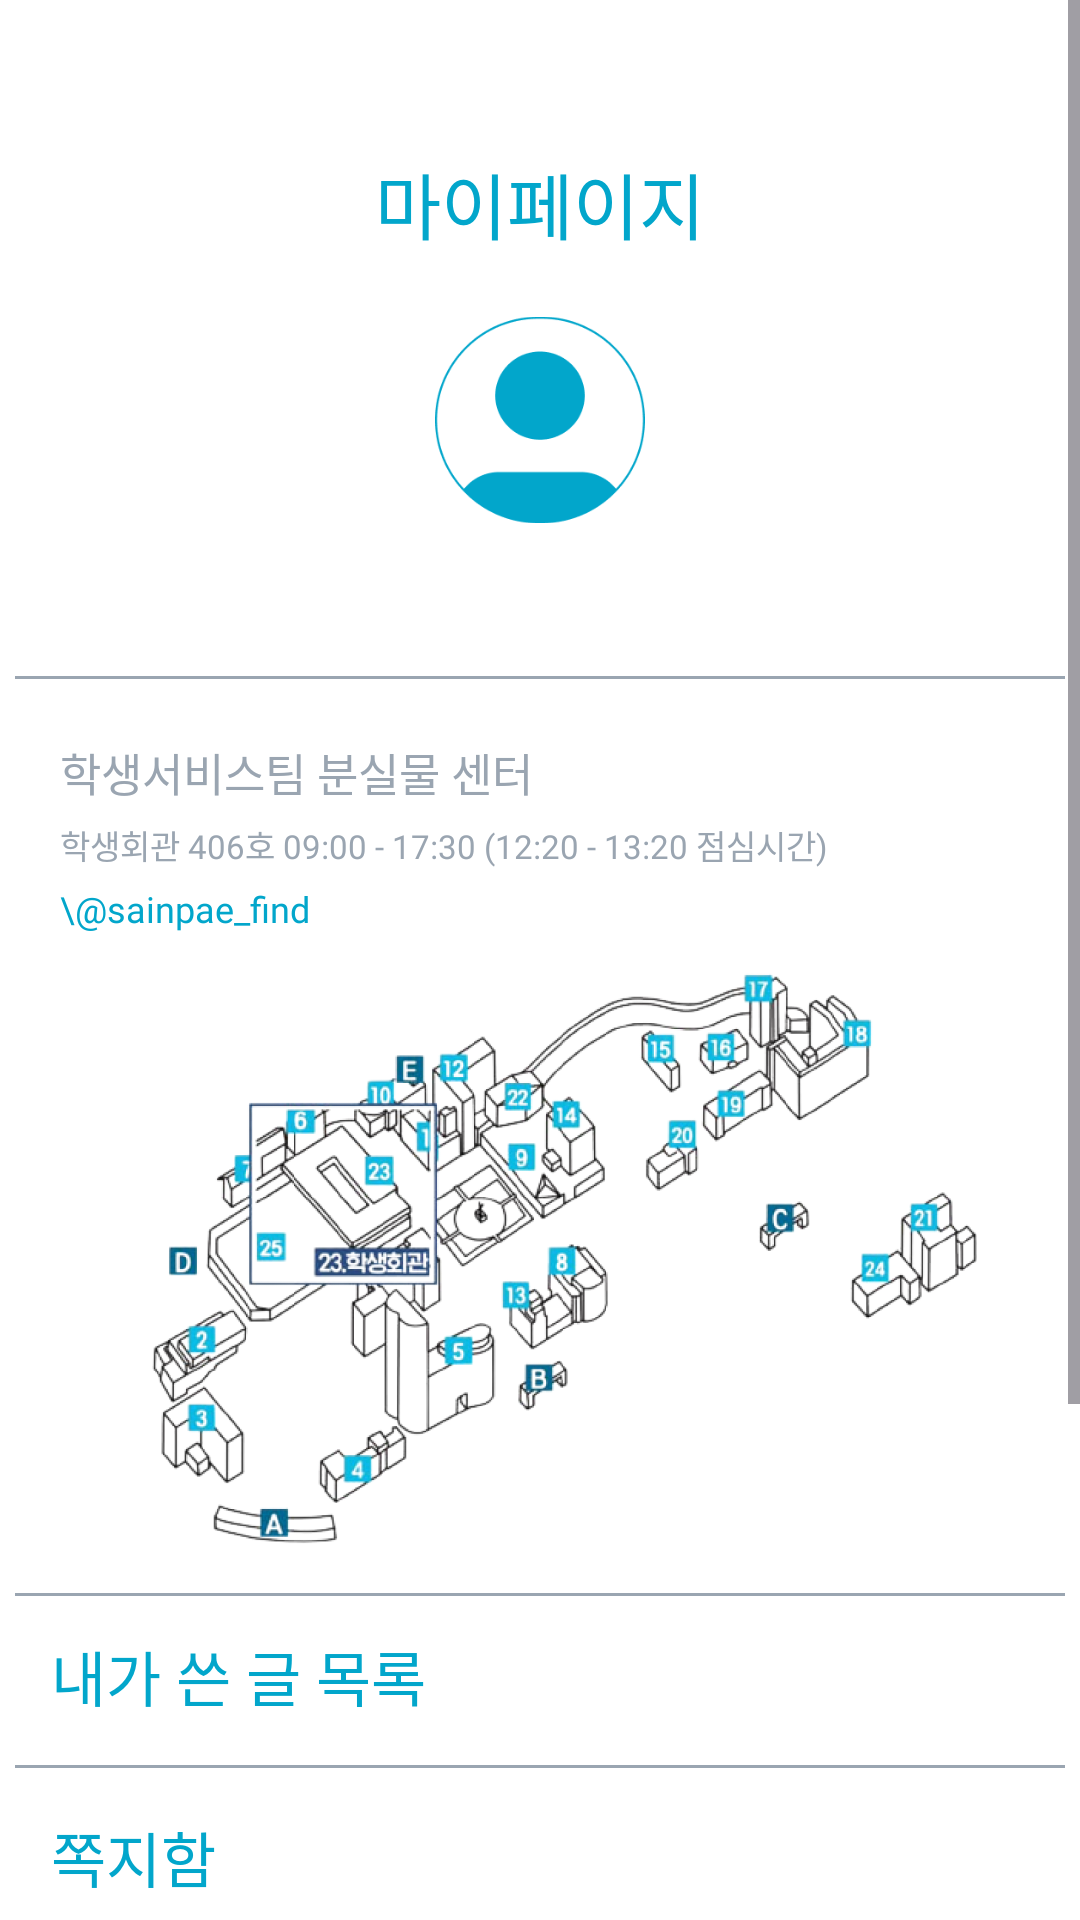

Icons on this 1080px×1920px Android screen, each with the point to tap as [x,y]:
page profile: [540,420]
